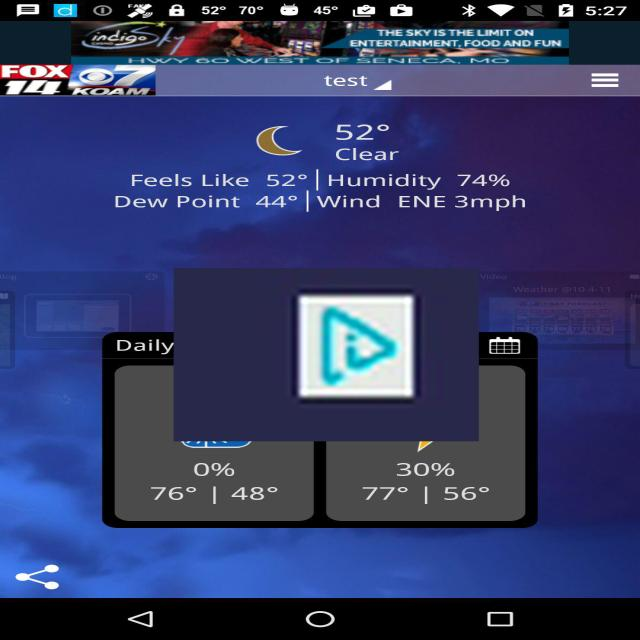sneaking: (174, 268, 478, 441)
